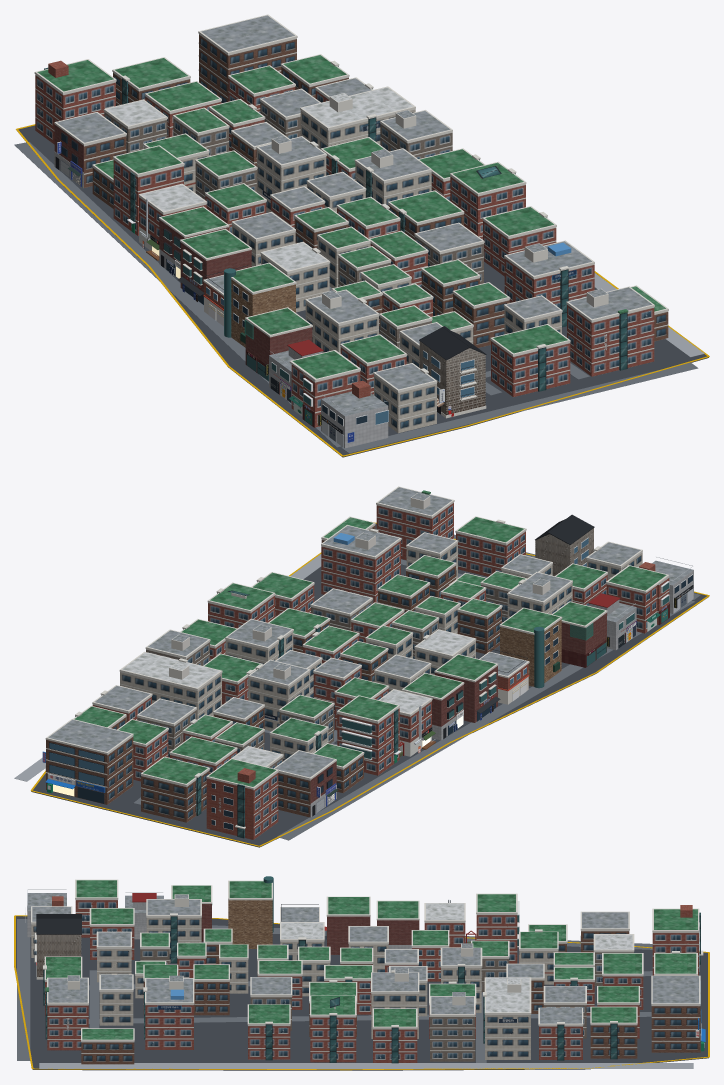
Rendered from place_신금호두산위브101.glb.
The picture shows the model from 3 angles, top to bottom: view 1: azimuth 30°, elevation 25°; view 2: azimuth 150°, elevation 25°; view 3: azimuth 270°, elevation 25°; orthographic projection. The views are drawn at different scales.
Parts seen in each view (by area): view 1: Merged_GreenRoof (×4), Merged_RedBrick (×4), Merged_Parapet (×4), Merged_GreyRoof (×4), Merged_BeigeStone (×4), Merged_BrownBrick (×2), Merged_Env_SiteAsphalt, Merged_GreyBrown (×3), Merged_Env_Alleys, Merged_LightGreyRoof (×2), Merged_Burgundy (×2), Merged_L17_DaeseongBrick (+6 smaller); view 2: Merged_GreenRoof (×4), Merged_RedBrick (×4), Merged_Parapet (×4), Merged_GreyRoof (×4), Merged_BeigeStone (×4), Merged_BrownBrick (×2), Merged_Env_SiteAsphalt, Merged_LightGreyRoof (×2), Merged_GreyBrown (×3), Merged_Env_Alleys, Merged_Burgundy (×2), Merged_L12_StoneBody (+9 smaller); view 3: Merged_GreenRoof (×4), Merged_RedBrick (×4), Merged_Env_SiteAsphalt, Merged_Parapet (×4), Merged_GreyRoof (×4), Merged_BeigeStone (×4), Merged_BrownBrick (×2), Merged_GreyBrown (×3), Merged_Env_Alleys, Merged_Env_EastWalk, Merged_LightGreyRoof (×2), Merged_StairGlass (×3) (+5 smaller).
Part boxes in pixels (<box>): Merged_GreenRoof (×4): <box>37,55,665,378</box>; Merged_RedBrick (×4): <box>35,74,654,427</box>; Merged_Parapet (×4): <box>34,14,668,392</box>; Merged_GreyRoof (×4): <box>57,15,651,416</box>; Merged_BeigeStone (×4): <box>143,109,561,433</box>; Merged_BrownBrick (×2): <box>84,34,668,347</box>; Merged_Env_SiteAsphalt: <box>18,125,708,457</box>; Merged_GreyBrown (×3): <box>104,101,483,348</box>; Merged_Env_Alleys: <box>14,142,698,453</box>; Merged_LightGreyRoof (×2): <box>106,87,413,270</box>; Merged_Burgundy (×2): <box>159,219,312,364</box>; Merged_L17_DaeseongBrick: <box>419,341,485,415</box>; Merged_GreenRoof (×4): <box>74,490,666,786</box>; Merged_RedBrick (×4): <box>92,502,669,839</box>; Merged_Parapet (×4): <box>45,486,669,789</box>; Merged_GreyRoof (×4): <box>48,487,693,777</box>; Merged_BeigeStone (×4): <box>120,542,642,759</box>; Merged_BrownBrick (×2): <box>107,525,501,822</box>; Merged_Env_SiteAsphalt: <box>31,524,708,847</box>; Merged_LightGreyRoof (×2): <box>122,630,473,766</box>; Merged_GreyBrown (×3): <box>137,584,509,768</box>; Merged_Env_Alleys: <box>133,534,700,840</box>; Merged_Burgundy (×2): <box>432,613,606,726</box>; Merged_L12_StoneBody: <box>500,619,561,686</box>; Merged_GreenRoof (×4): <box>45,880,697,1039</box>; Merged_RedBrick (×4): <box>45,899,698,1062</box>; Merged_Env_SiteAsphalt: <box>16,916,708,1070</box>; Merged_Parapet (×4): <box>31,879,700,1041</box>; Merged_GreyRoof (×4): <box>27,893,698,1023</box>; Merged_BeigeStone (×4): <box>31,917,558,1059</box>; Merged_BrownBrick (×2): <box>81,930,700,1064</box>; Merged_GreyBrown (×3): <box>140,948,633,1061</box>; Merged_Env_Alleys: <box>17,919,652,1062</box>; Merged_Env_EastWalk: <box>39,1063,693,1068</box>; Merged_LightGreyRoof (×2): <box>281,903,632,1012</box>; Merged_StairGlass (×3): <box>43,916,617,1063</box>.
Bounding box in the file's own units: 82.82 × 14.29 × 157.
98 materials, 64 textured.
